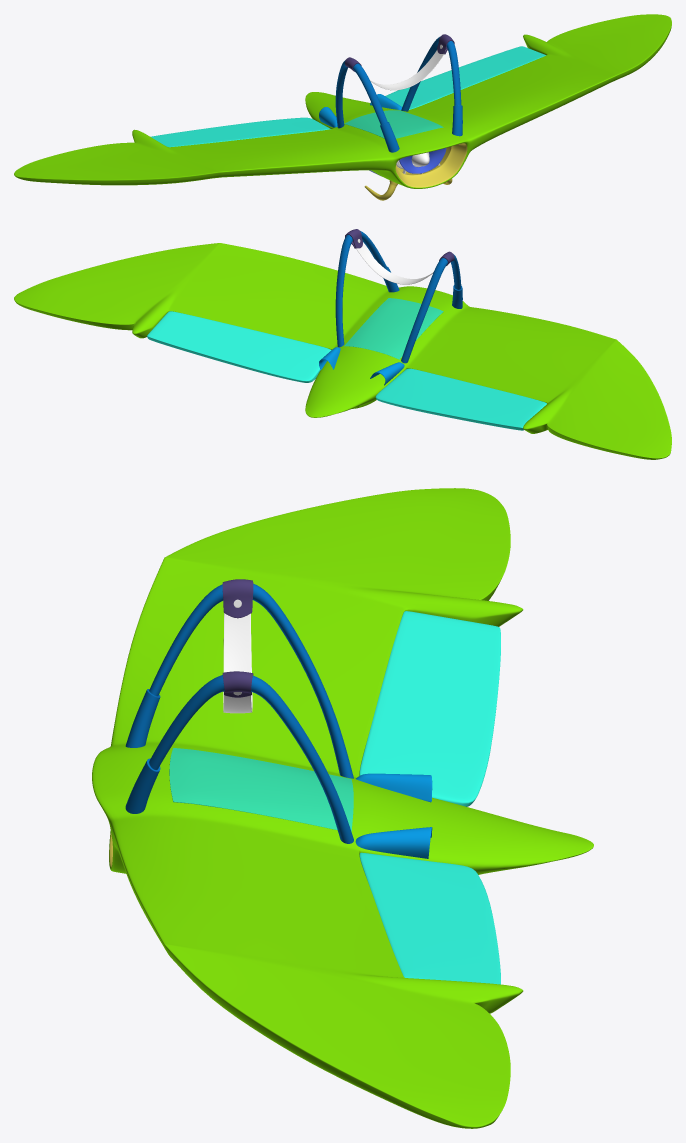
File: blimp.glb
3 renders of one model, top to bottom at view 1: azimuth 30°, elevation 25°; view 2: azimuth 150°, elevation 25°; view 3: azimuth 270°, elevation 25°, orthographic. The views are drawn at different scales.
Parts seen in each view (by area): view 1: blender布的-免费下载, Cube.001, Circle, Cube.005, Circle.001, Cube.006, Cube.002; view 2: blender布的-免费下载, Cube.001, Cube.005, Circle, Circle.001, Cube.002; view 3: blender布的-免费下载, Cube.001, Circle, Cube.005, Circle.001, Cube.002.
Part boxes in pixels (box(x1,y1,x2,y2)): blender布的-免费下载: box(14, 14, 671, 188); Cube.001: box(150, 46, 546, 147); Circle: box(335, 36, 462, 152); Cube.005: box(344, 110, 443, 138); Circle.001: box(345, 34, 454, 90); Cube.006: box(399, 148, 446, 173); Cube.002: box(319, 94, 401, 127); blender布的-免费下载: box(14, 243, 671, 459); Cube.001: box(147, 311, 546, 430); Cube.005: box(344, 298, 443, 359); Circle: box(335, 231, 462, 363); Circle.001: box(345, 229, 454, 284); Cube.002: box(319, 347, 404, 385); blender布的-免费下载: box(92, 488, 593, 1128); Cube.001: box(359, 611, 500, 984); Circle: box(125, 583, 353, 843); Cube.005: box(169, 748, 353, 831); Circle.001: box(222, 579, 253, 713); Cube.002: box(355, 773, 432, 858).
Bounding box in the file's own units: 9.97 × 1.97 × 3.32.
